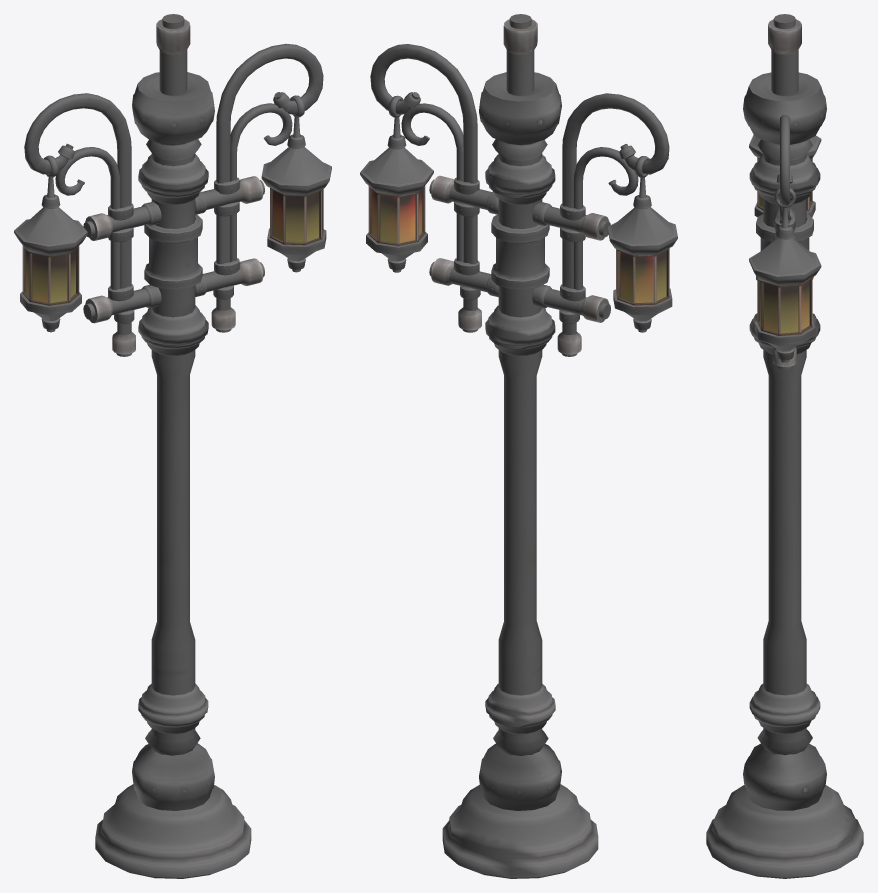
The model's file is SM_ExtLightPole_Metal_01.fbx.
3 renders of one model, left to right at view 1: azimuth 30°, elevation 25°; view 2: azimuth 150°, elevation 25°; view 3: azimuth 270°, elevation 25°, orthographic.
Parts seen in each view (by area): view 1: SM_ExtLightPole_Metal_01_LOD0; view 2: SM_ExtLightPole_Metal_01_LOD0; view 3: SM_ExtLightPole_Metal_01_LOD0.
Part boxes in pixels (x1=…): SM_ExtLightPole_Metal_01_LOD0: x1=14, y1=14, x2=331, y2=878; SM_ExtLightPole_Metal_01_LOD0: x1=360, y1=14, x2=677, y2=878; SM_ExtLightPole_Metal_01_LOD0: x1=706, y1=14, x2=863, y2=878.
Size of the model in its own units: 155 by 399 by 68.43.
